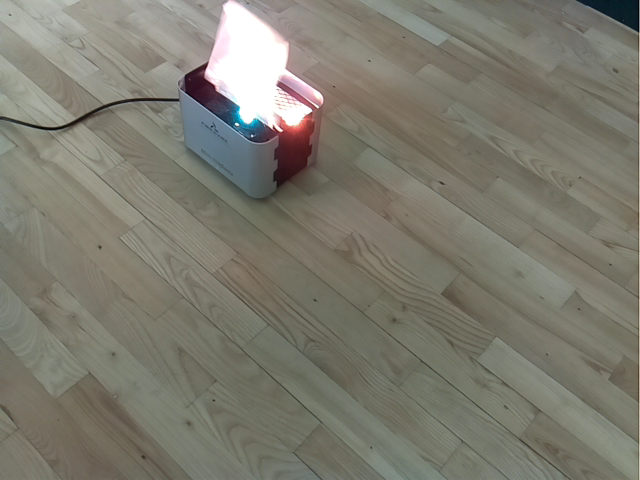fire: (204, 1, 288, 132)
